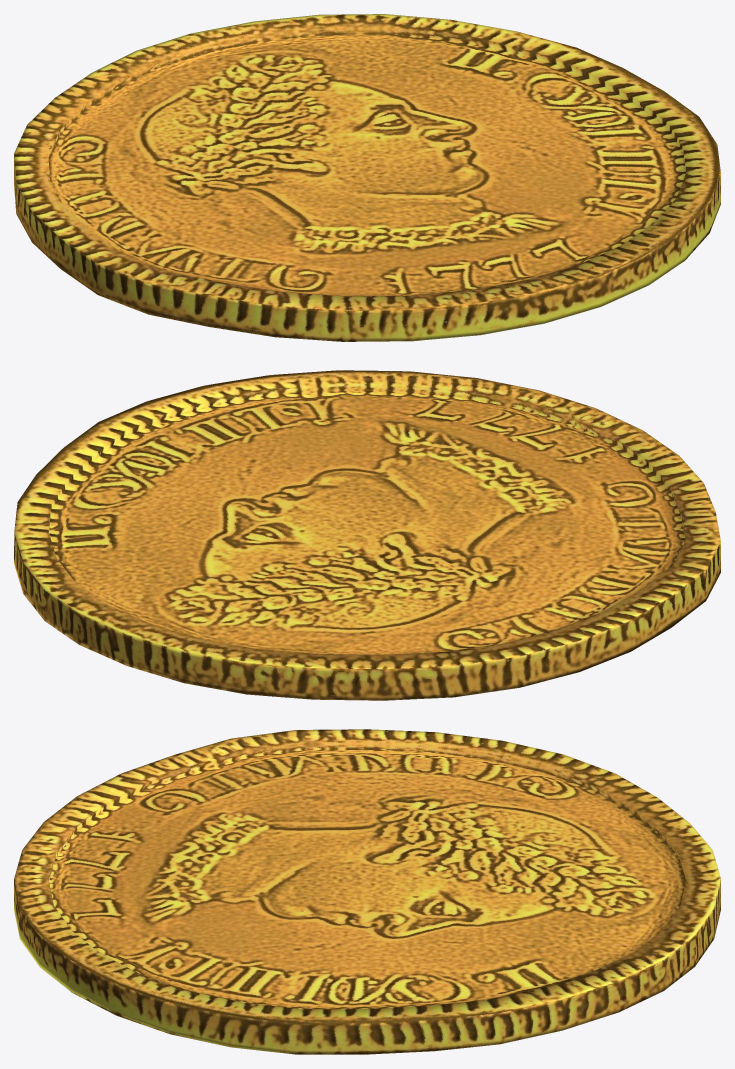
Rendered from coin_single.glb.
3 views of the same model, one above another, from view 1: azimuth 30°, elevation 25°; view 2: azimuth 150°, elevation 25°; view 3: azimuth 270°, elevation 25° (orthographic).
Visible parts, largest first — view 1: Gold Doubloon; view 2: Gold Doubloon; view 3: Gold Doubloon.
Boxes of the visible parts, x1,y1,x2,y2 form: Gold Doubloon: (14,14,720,341); Gold Doubloon: (14,370,720,700); Gold Doubloon: (14,729,720,1054).
Size of the model in its own units: 0.05 by 0.00246 by 0.0508.
1 material, 1 textured.
